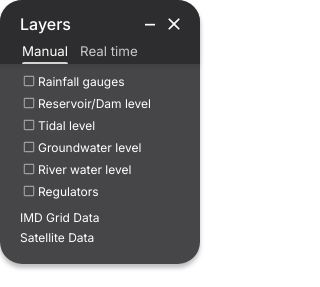
Test: LayersComponent › displays the correct tab content when tabs are clicked
Expected: the text "IMD Grid Data" is shown, x1=20 y1=208 x2=99 y2=228
Expected: the text "Satellite Data" is shown, x1=20 y1=228 x2=94 y2=248
Click on Real Time tab
What coordinates should you click on to do the following:
click the button "Real time"
I would click on:
 (109, 51)
Its box is x1=74 y1=42 x2=144 y2=60.
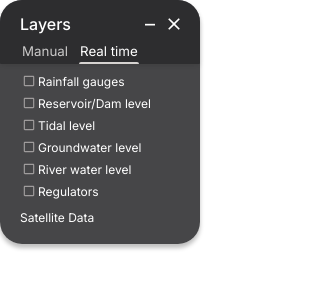
Expected: the text "Satellite Data" is shown, x1=20 y1=208 x2=94 y2=228
Now the text "IMD Grid Data" is gone
